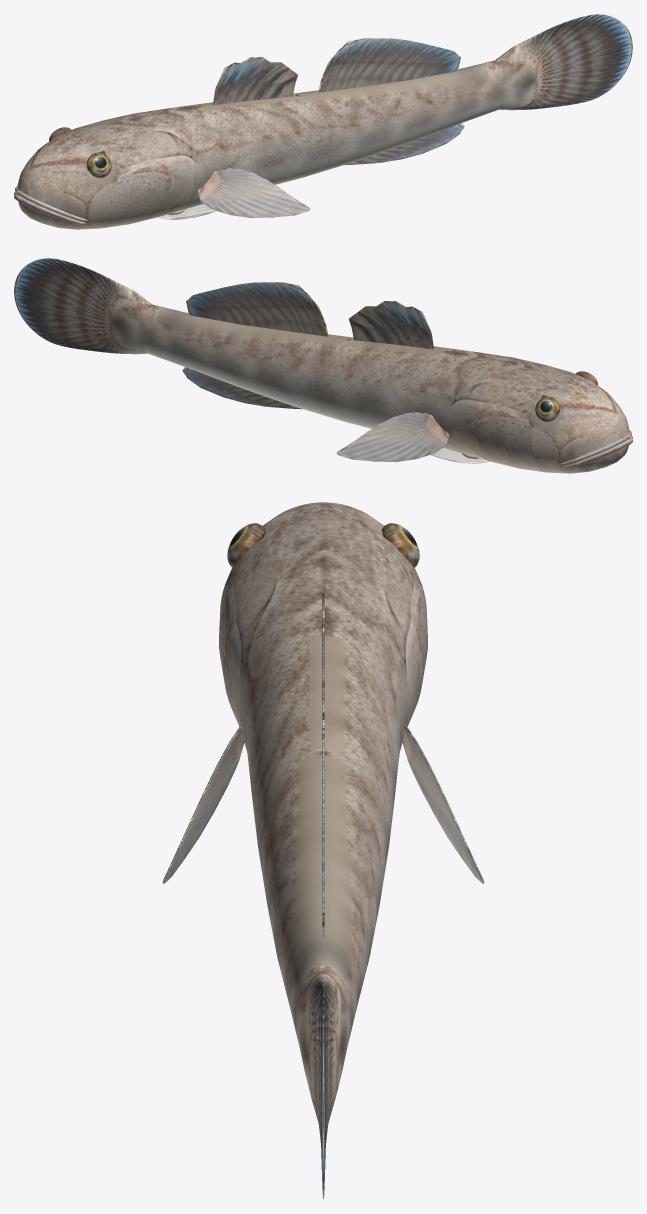
Rendered from female.glb.
The picture shows the model from 3 angles, top to bottom: view 1: azimuth 30°, elevation 25°; view 2: azimuth 150°, elevation 25°; view 3: azimuth 270°, elevation 25°; orthographic projection. The views are drawn at different scales.
Visible parts, largest first — view 1: Body_continuous_caudal, Dorsal_2, Pectoral_left, Dorsal_1, Anal, Eye_left, Fused_pelvic_disc, Projecting_lower_lip, Closed_upper_lip; view 2: Body_continuous_caudal, Dorsal_2, Pectoral_right, Dorsal_1, Anal, Eye_right, Fused_pelvic_disc, Projecting_lower_lip, Closed_upper_lip; view 3: Body_continuous_caudal, Pectoral_left, Pectoral_right.
Boxes of the visible parts, x1,y1,x2,y2 form: Body_continuous_caudal: [17, 14, 632, 229]; Dorsal_2: [318, 38, 460, 92]; Pectoral_left: [198, 168, 310, 218]; Dorsal_1: [213, 57, 298, 105]; Anal: [344, 123, 464, 165]; Eye_left: [87, 152, 111, 177]; Fused_pelvic_disc: [157, 204, 216, 219]; Projecting_lower_lip: [14, 191, 86, 224]; Closed_upper_lip: [15, 186, 87, 221]; Body_continuous_caudal: [14, 258, 629, 473]; Dorsal_2: [186, 282, 328, 336]; Pectoral_right: [336, 412, 448, 462]; Dorsal_1: [348, 301, 433, 349]; Anal: [182, 367, 302, 409]; Eye_right: [535, 396, 559, 421]; Fused_pelvic_disc: [430, 448, 489, 463]; Projecting_lower_lip: [560, 435, 632, 468]; Closed_upper_lip: [559, 430, 631, 465]; Body_continuous_caudal: [219, 502, 427, 1199]; Pectoral_left: [162, 725, 244, 883]; Pectoral_right: [402, 725, 484, 883].
Bounding box in the file's own units: 0.0383 × 0.00823 × 0.00866.
1 material, 1 textured.
